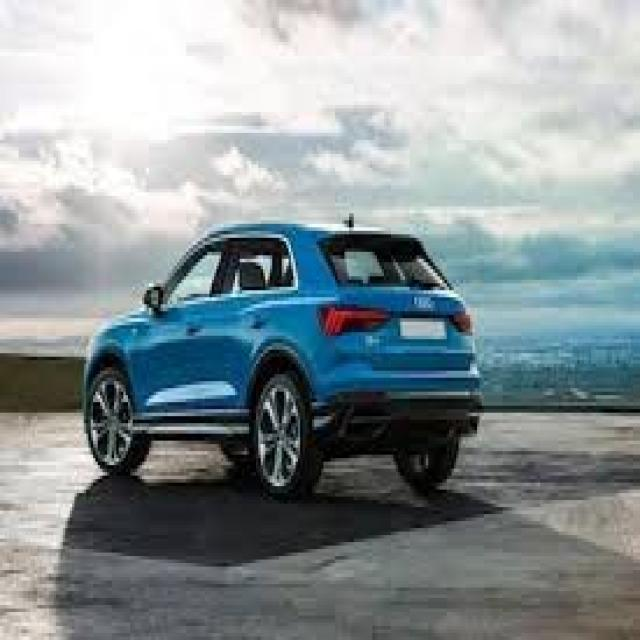Car: (84, 224, 483, 497)
